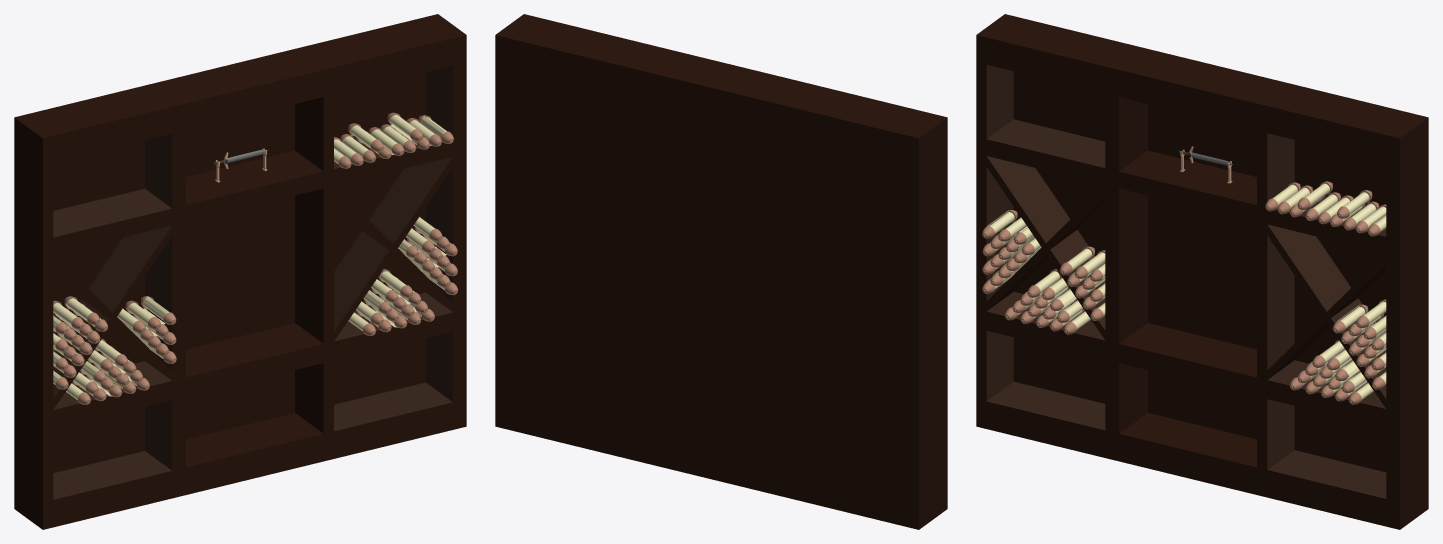
Rendered from Scaffale 4 + Ogg .fbx.
3 renders of one model, left to right at view 1: azimuth 30°, elevation 25°; view 2: azimuth 150°, elevation 25°; view 3: azimuth 330°, elevation 25°, orthographic.
Parts seen in each view (by area): view 1: Library 1.033, Cylinder.121; view 2: Library 1.033; view 3: Library 1.033.
Boxes of the visible parts, x1,y1,x2,y2 form: Library 1.033: [14, 14, 466, 529]; Cylinder.121: [387, 112, 423, 141]; Library 1.033: [495, 14, 947, 529]; Library 1.033: [976, 14, 1428, 529].
Size of the model in its own units: 593 by 523 by 89.17.
